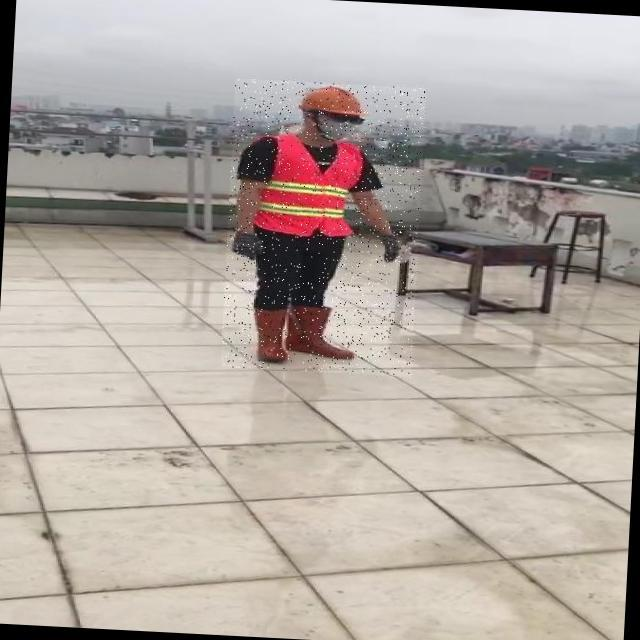Gloves: (231, 230, 268, 262), (375, 232, 407, 265)
Helmet: (298, 83, 372, 121)
Human: (221, 78, 428, 377)
Safety Boot: (288, 304, 359, 358), (254, 305, 293, 368)
Safety Vest: (257, 132, 364, 239)
